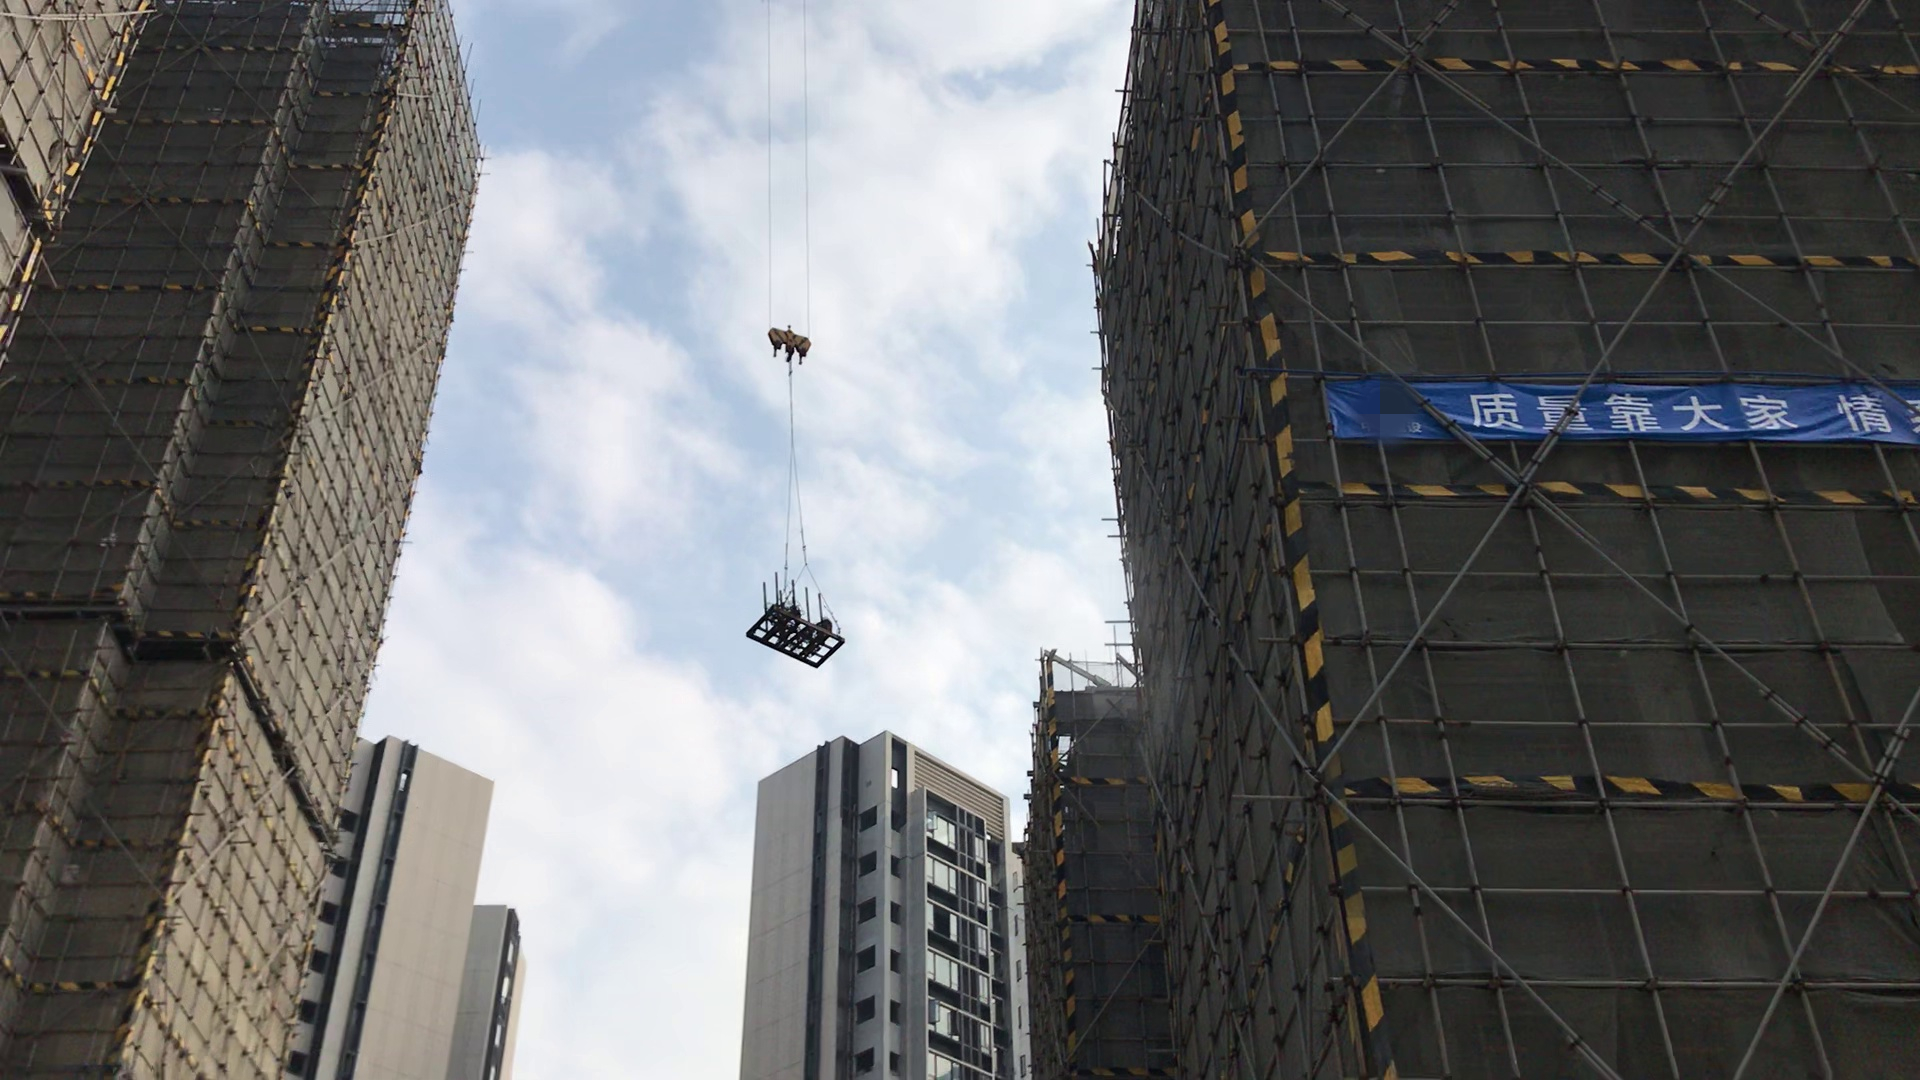hook: (774, 320, 818, 367)
slogan: (1393, 343, 1888, 500)
